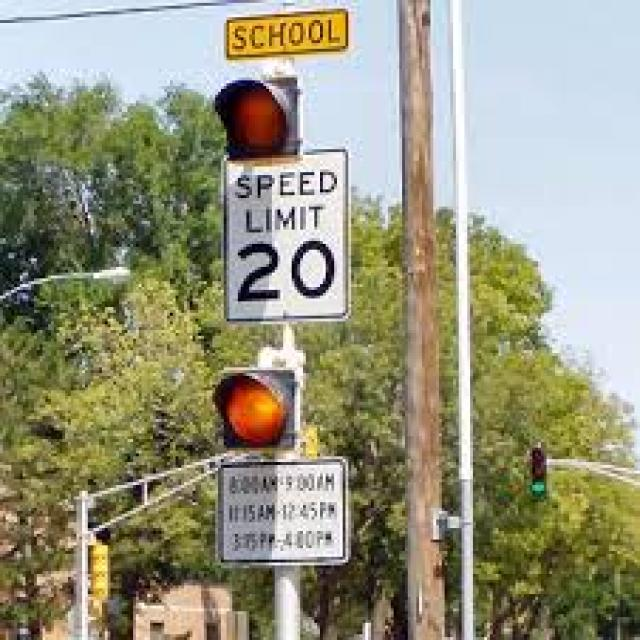speedLimit20: (225, 162, 347, 317)
